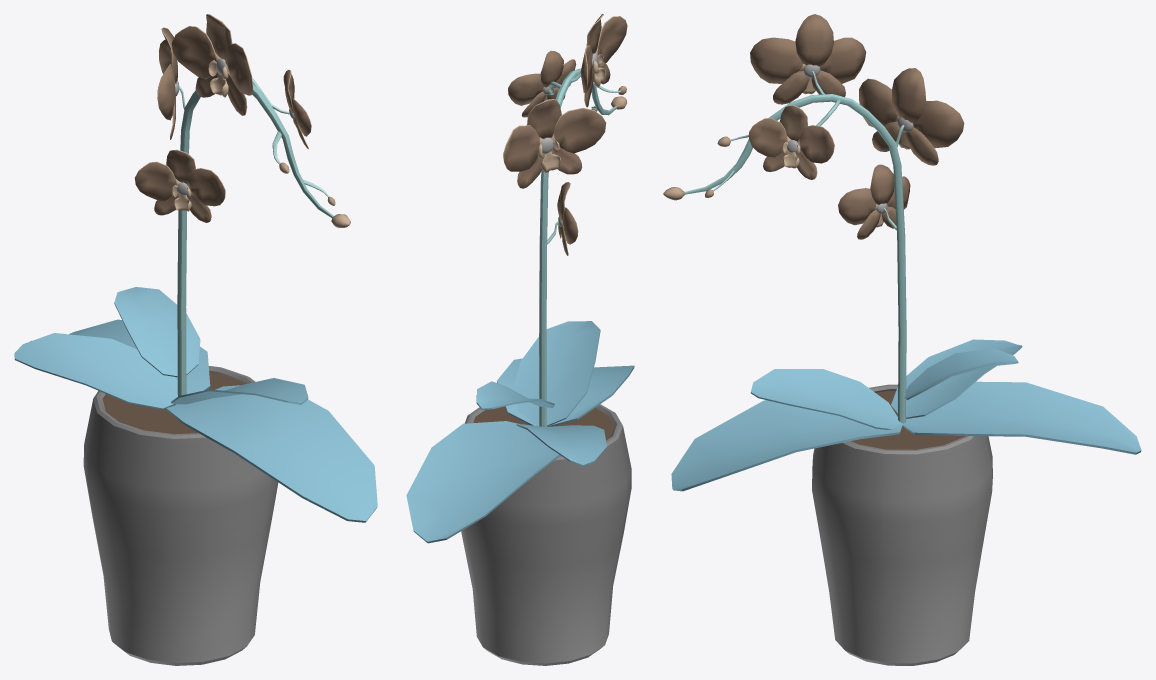
The model's file is Flower_orchid.FBX.
The picture shows the model from 3 angles, left to right: view 1: azimuth 30°, elevation 25°; view 2: azimuth 150°, elevation 25°; view 3: azimuth 270°, elevation 25°; orthographic projection. The views are drawn at different scales.
Visible parts, largest first — view 1: Plant pot; view 2: Plant pot; view 3: Plant pot.
Part boxes in pixels (<box>): Plant pot: <box>14,14,377,665</box>; Plant pot: <box>406,14,634,665</box>; Plant pot: <box>663,14,1141,665</box>.
Bounding box in the file's own units: 10.67 × 32.71 × 22.91.
